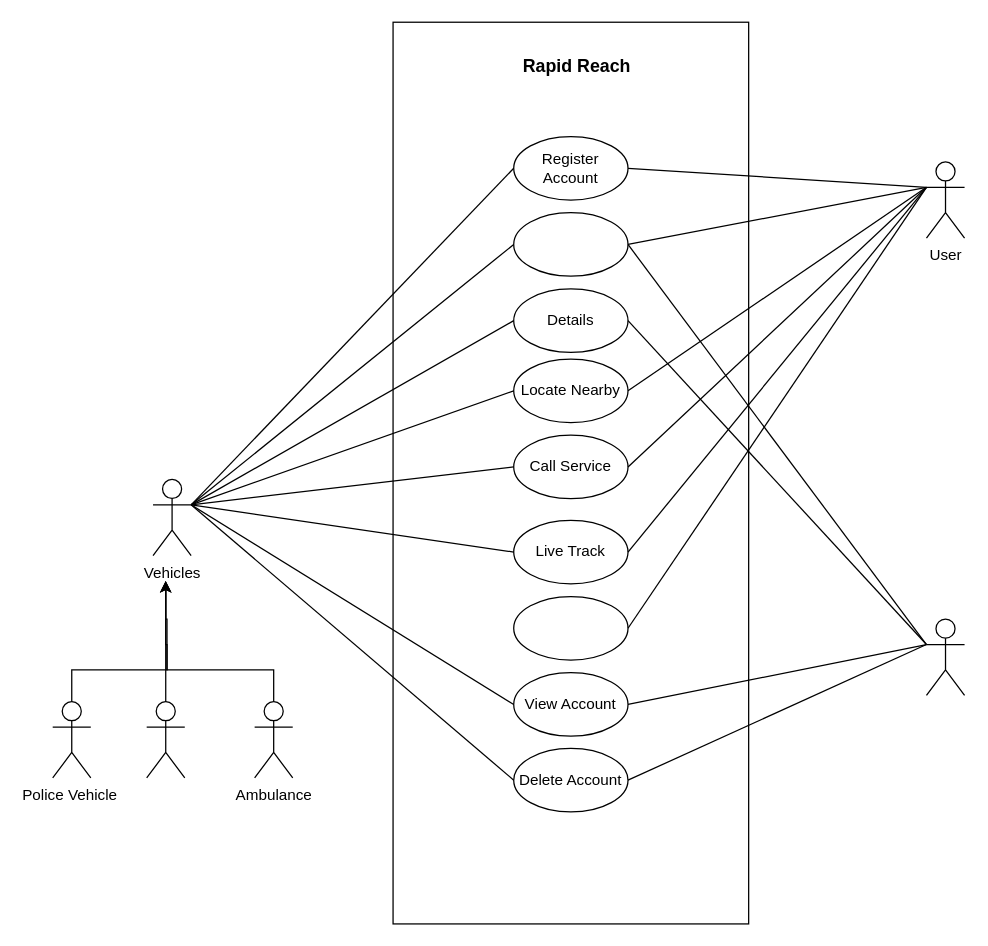
This 988x946 diagram has some shape labels left out. Here are the shapes that lost their labels. From the top down, the centre of each, then its label:
At pixel 570 243: "Login-Logout".
At pixel 570 627: "Recommend".
At pixel 945 656: "Admin".
At pixel 165 739: "Fire truck".
